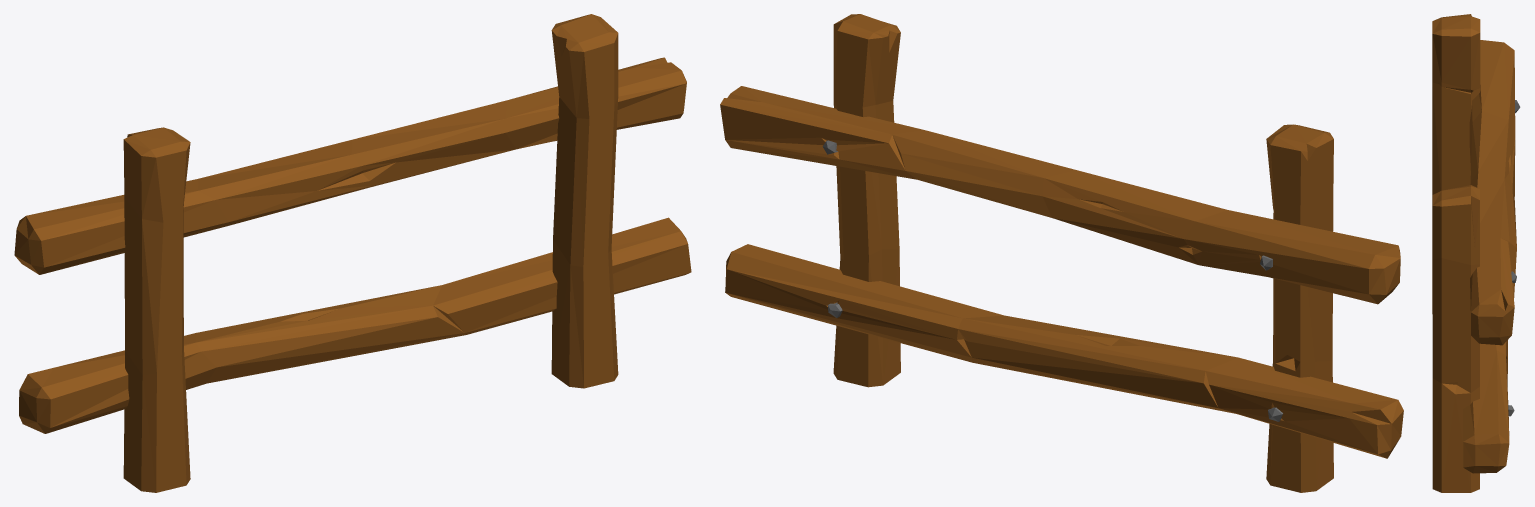
Rendered from Fence.fbx.
The picture shows the model from 3 angles, left to right: view 1: azimuth 30°, elevation 25°; view 2: azimuth 150°, elevation 25°; view 3: azimuth 270°, elevation 25°; orthographic projection. The views are drawn at different scales.
Visible parts, largest first — view 1: S_Fence; view 2: S_Fence; view 3: S_Fence.
Boxes of the visible parts, x1,y1,x2,y2 form: S_Fence: (14,14,691,492); S_Fence: (720,14,1403,492); S_Fence: (1432,14,1520,492).
Size of the model in its own units: 200 by 102 by 27.71.
